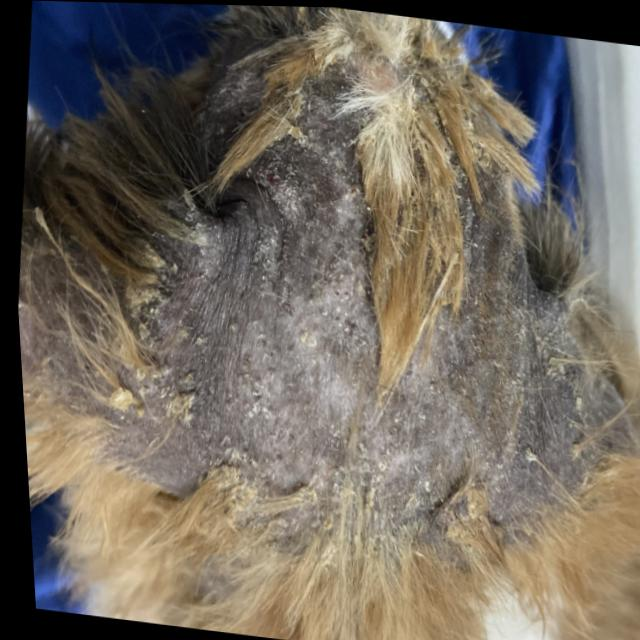demodicosis: (87, 45, 380, 503), (363, 151, 640, 523)
